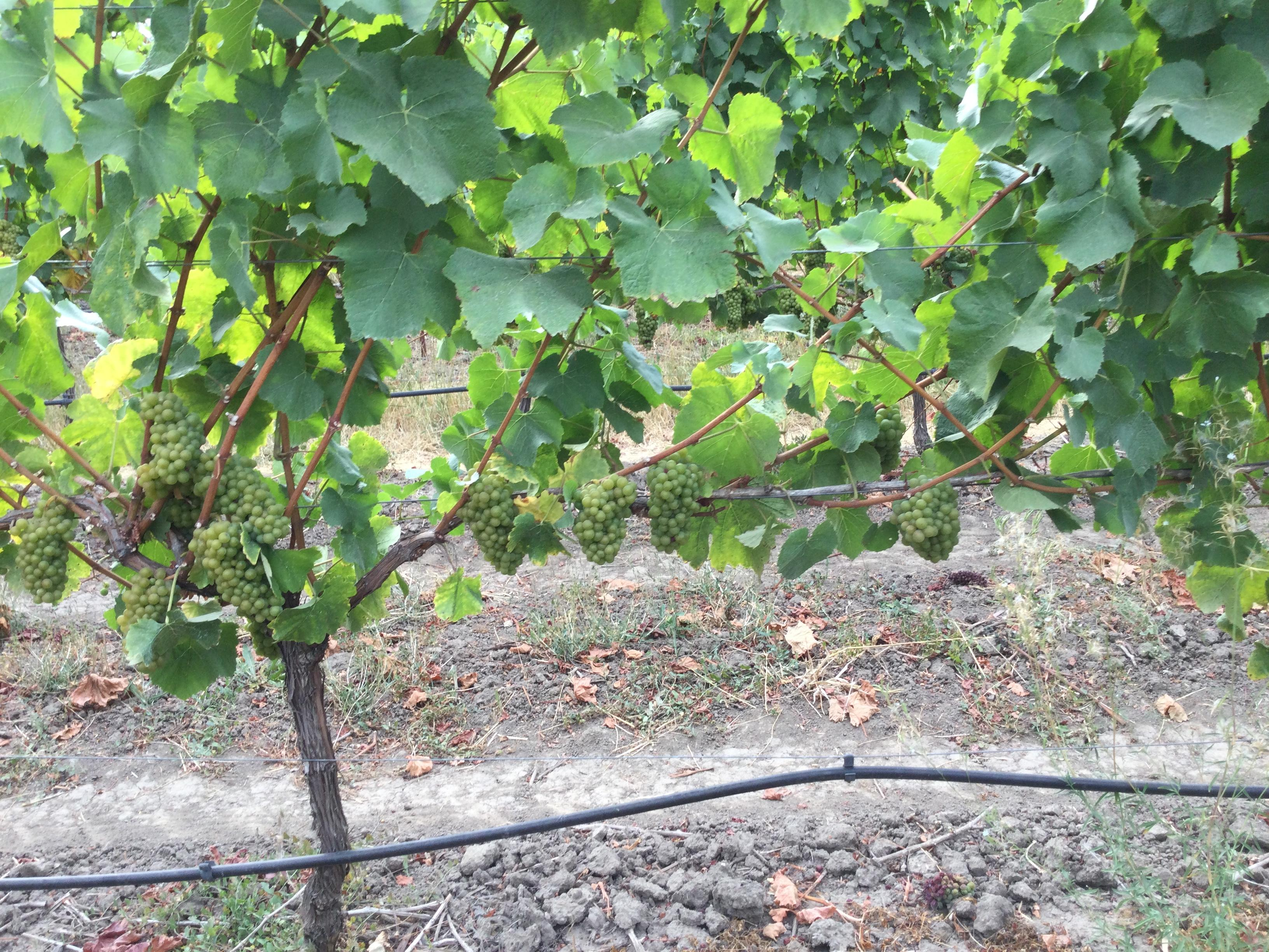leaf: (328, 52, 499, 203), (610, 161, 736, 302), (337, 208, 459, 339), (1126, 45, 1268, 148), (443, 248, 592, 345), (947, 277, 1054, 399), (79, 99, 198, 198), (0, 0, 75, 153), (689, 93, 782, 202), (124, 609, 236, 698), (551, 92, 681, 166), (1162, 269, 1268, 354), (1028, 97, 1114, 198), (1035, 187, 1134, 268), (513, 0, 648, 58), (0, 294, 73, 398), (273, 565, 355, 644), (60, 394, 143, 471), (693, 408, 780, 480), (278, 83, 341, 182), (528, 350, 606, 416), (259, 340, 323, 419), (741, 203, 806, 272), (499, 399, 563, 468), (206, 0, 261, 72), (289, 187, 366, 236), (776, 519, 837, 578), (673, 385, 734, 441), (780, 0, 863, 39), (509, 512, 567, 564), (825, 400, 878, 452), (262, 547, 320, 592), (433, 568, 482, 621), (484, 394, 514, 431), (262, 355, 265, 359), (267, 0, 273, 2), (707, 121, 710, 125), (507, 387, 510, 389), (746, 526, 752, 527), (718, 123, 720, 125), (652, 0, 655, 1), (473, 361, 474, 363), (433, 332, 434, 332)
